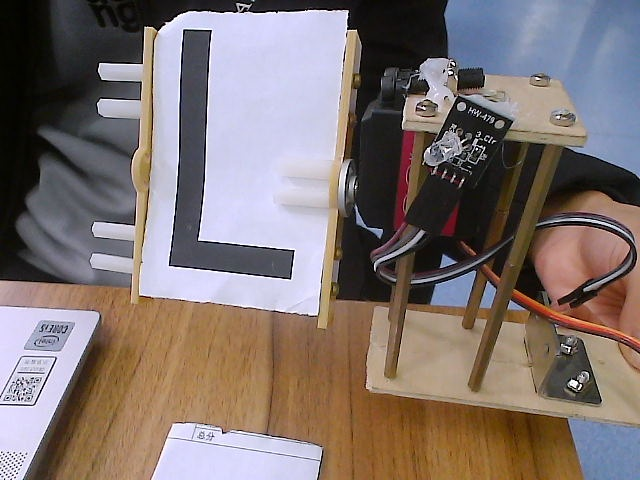L: (75, 1, 420, 359)
